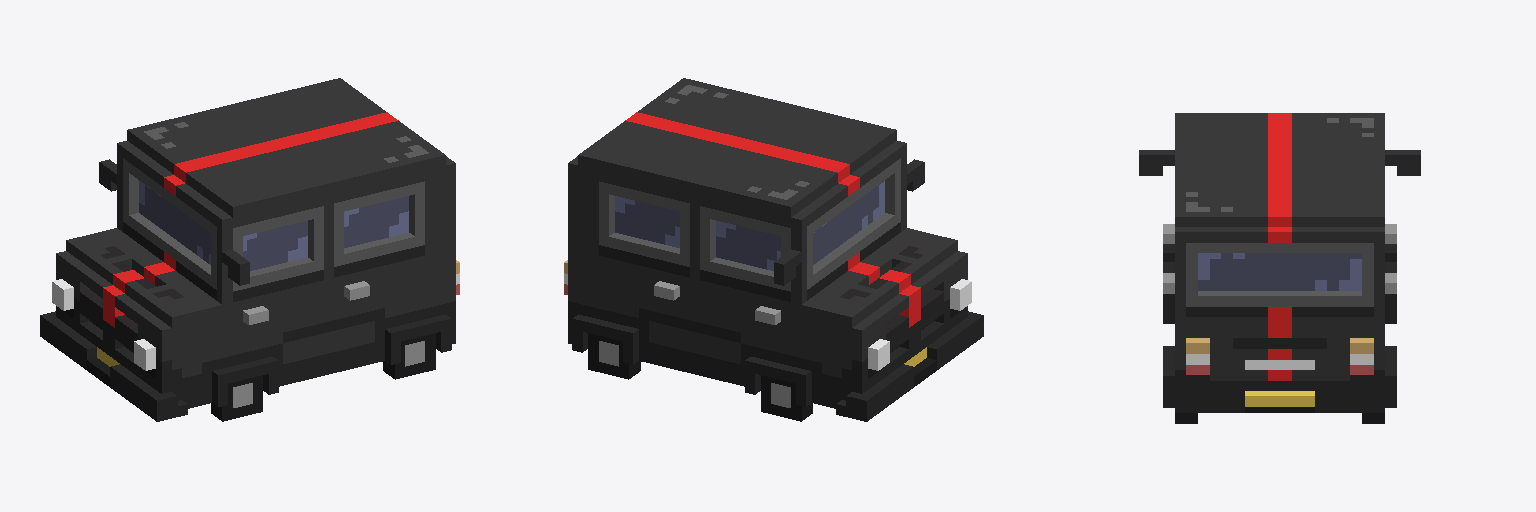
3 views of the same model, side by side, from view 1: azimuth 30°, elevation 25°; view 2: azimuth 150°, elevation 25°; view 3: azimuth 270°, elevation 25° (orthographic).
Visible parts, largest first — view 1: Box_93; view 2: Box_93; view 3: Box_93.
Part boxes in pixels (x1,y1,x2,y2): Box_93: (40, 78, 459, 421); Box_93: (564, 78, 983, 421); Box_93: (1139, 113, 1420, 423).
Bounding box in the file's own units: 31 × 20 × 24.
Materials: 1 (1 with a texture image).